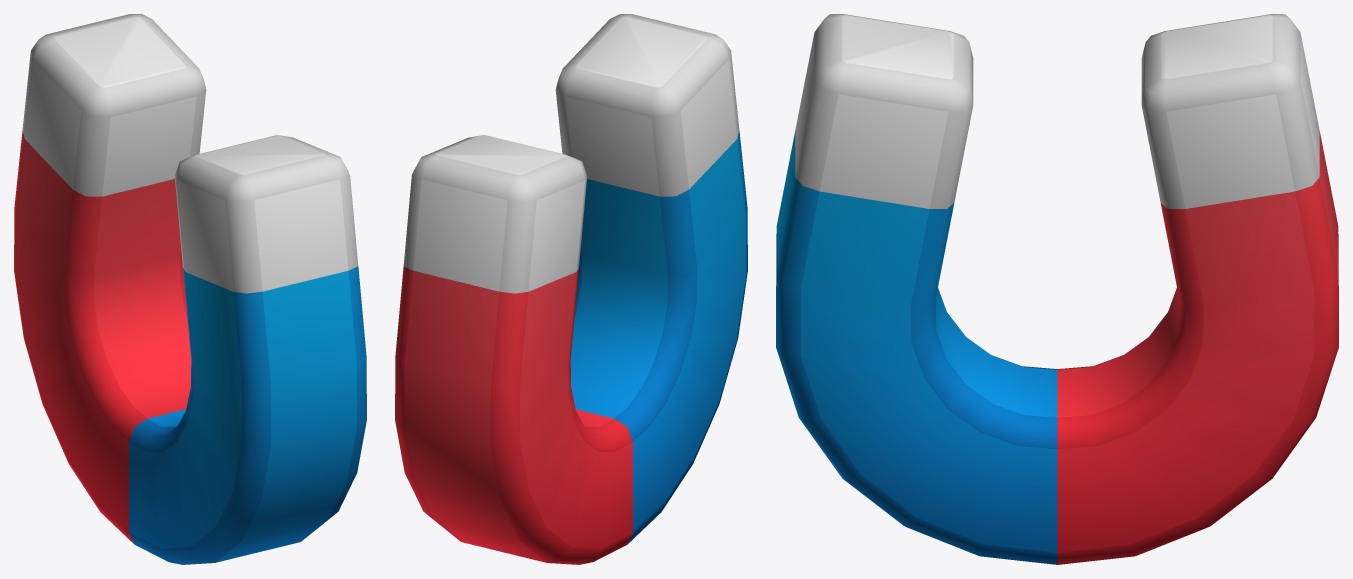
File: Magnet_V1_00.fbx
3 renders of one model, left to right at view 1: azimuth 30°, elevation 25°; view 2: azimuth 150°, elevation 25°; view 3: azimuth 270°, elevation 25°, orthographic. The views are drawn at different scales.
Visible parts, largest first — view 1: Magnet_V1_00; view 2: Magnet_V1_00; view 3: Magnet_V1_00.
Boxes of the visible parts, bbox=[...] form: Magnet_V1_00: bbox=[14, 14, 366, 564]; Magnet_V1_00: bbox=[395, 14, 747, 564]; Magnet_V1_00: bbox=[776, 14, 1338, 564].
Size of the model in its own units: 11.58 by 39.72 by 40.38.
